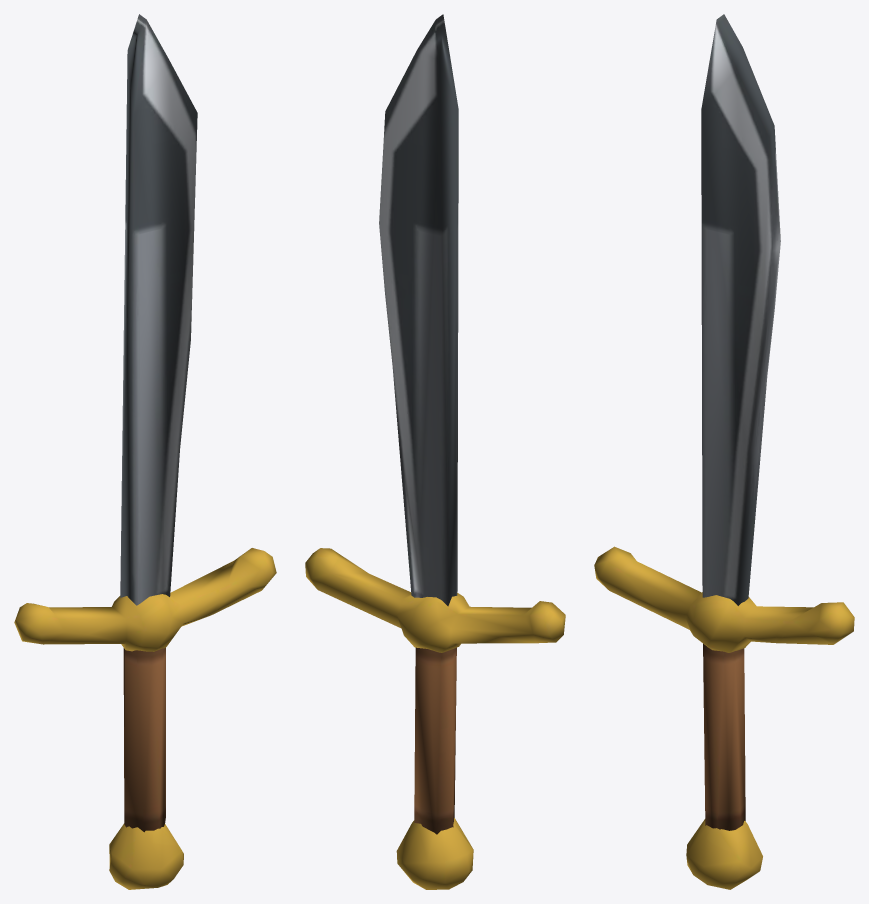
File: falchion.glb
The picture shows the model from 3 angles, left to right: view 1: azimuth 30°, elevation 25°; view 2: azimuth 150°, elevation 25°; view 3: azimuth 330°, elevation 25°; orthographic projection.
Parts seen in each view (by area): view 1: blade; view 2: blade; view 3: blade.
Part boxes in pixels (left/top/right/bottom): blade: left=14, top=14, right=276, bottom=889; blade: left=305, top=14, right=565, bottom=889; blade: left=594, top=14, right=854, bottom=889.
Size of the model in its own units: 0.2324 by 0.7631 by 0.0582.
1 material, 1 textured.
